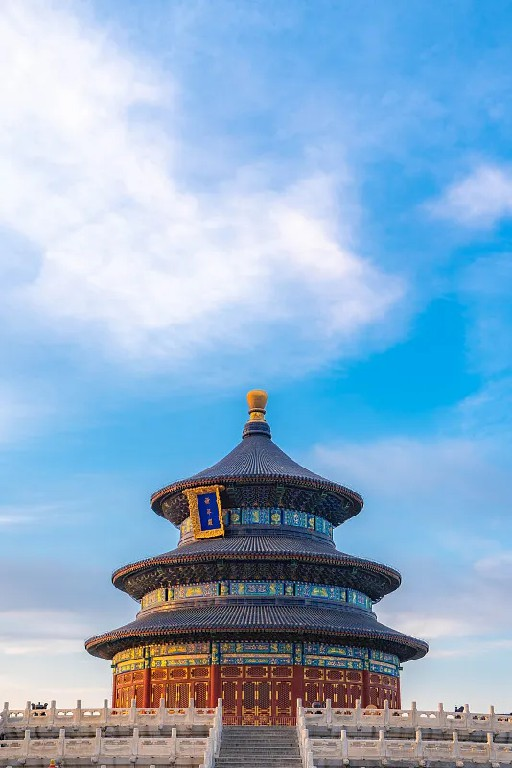Heaven: (83, 389, 430, 725)
